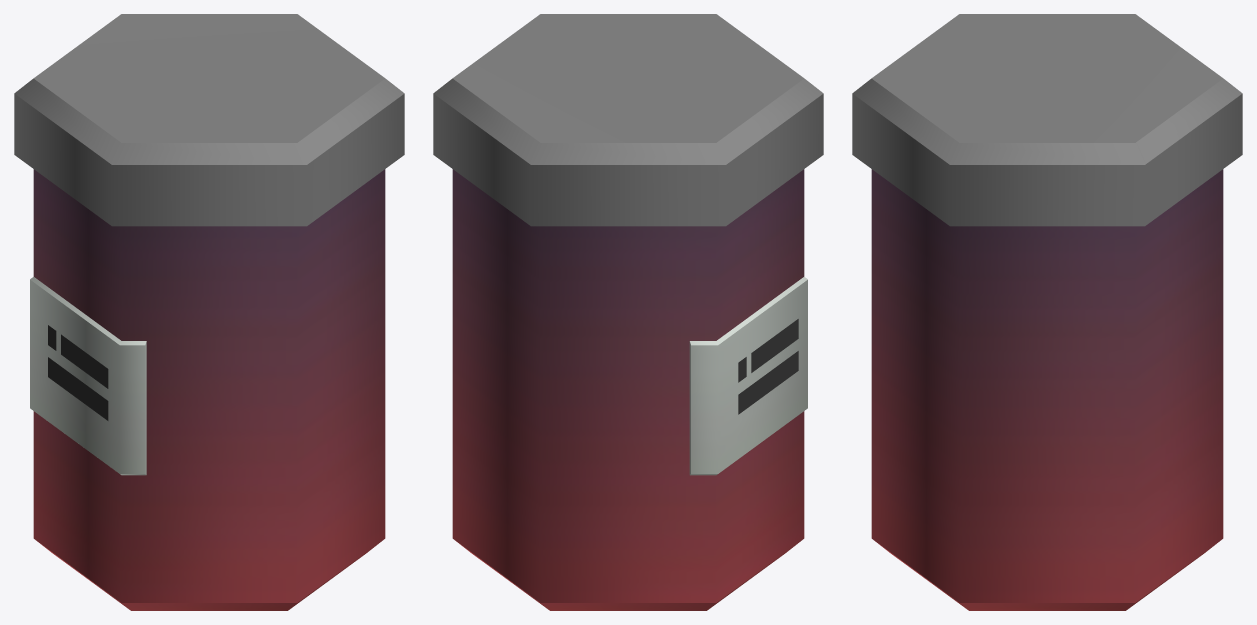
The model's file is Jar_3_I.fbx.
The picture shows the model from 3 angles, left to right: view 1: azimuth 30°, elevation 25°; view 2: azimuth 150°, elevation 25°; view 3: azimuth 270°, elevation 25°; orthographic projection.
Parts seen in each view (by area): view 1: Jar_3_I; view 2: Jar_3_I; view 3: Jar_3_I.
Part boxes in pixels (x1,y1,x2,y2): Jar_3_I: (14, 14, 404, 610); Jar_3_I: (433, 14, 823, 610); Jar_3_I: (852, 14, 1242, 610).
Size of the model in its own units: 17.99 by 27.9 by 20.77.
